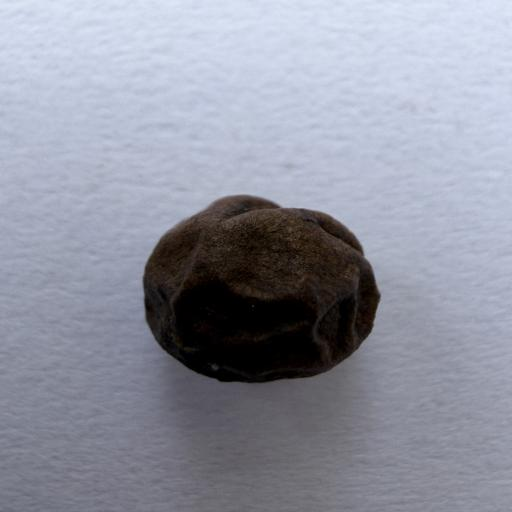Black_pepper: (120, 156, 381, 388)
